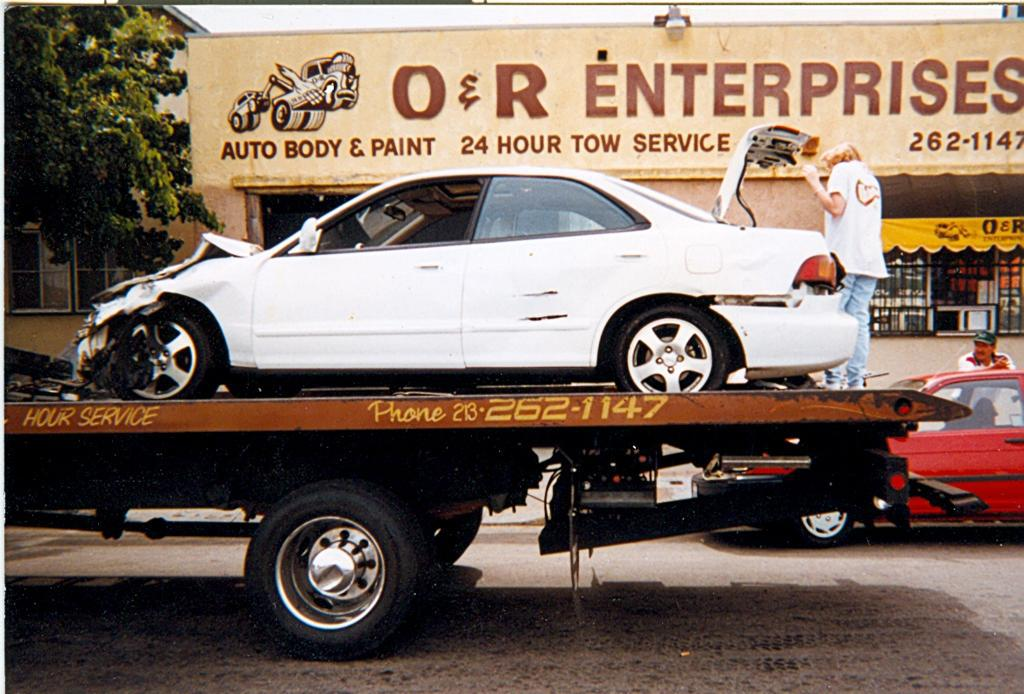face: (976, 341, 992, 361)
